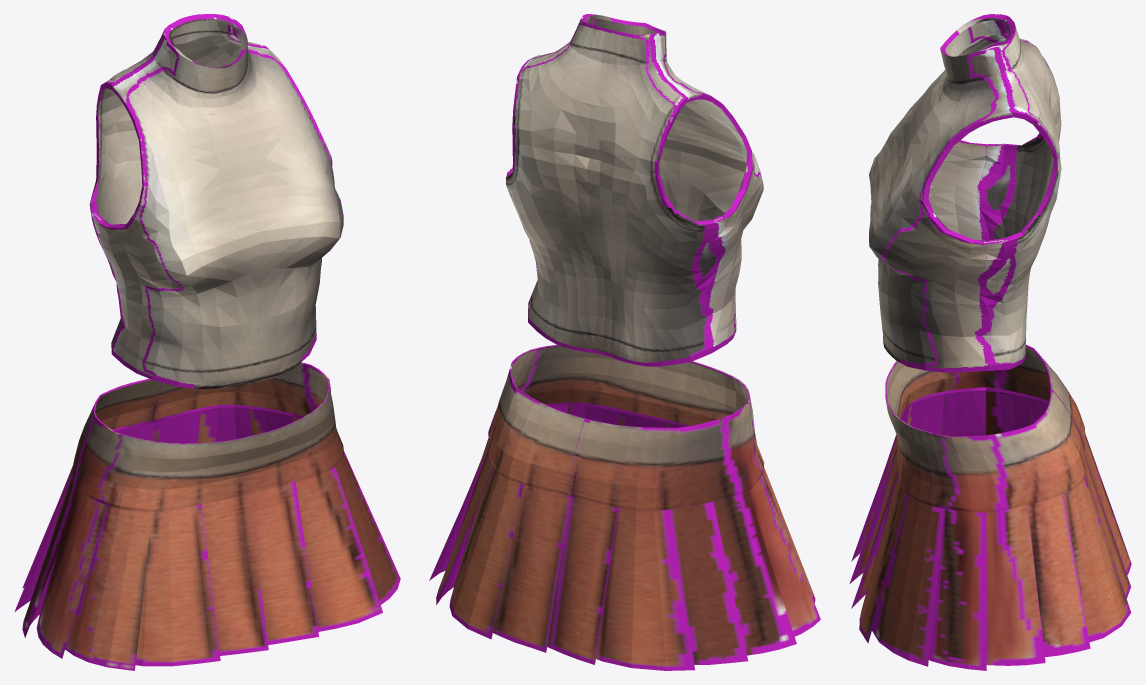
3 views of the same model, side by side, from view 1: azimuth 30°, elevation 25°; view 2: azimuth 150°, elevation 25°; view 3: azimuth 270°, elevation 25° (orthographic). The views are drawn at different scales.
Bounding box in the file's own units: 0.6589 × 1.02 × 0.4672.
Materials: 1 (1 with a texture image).
